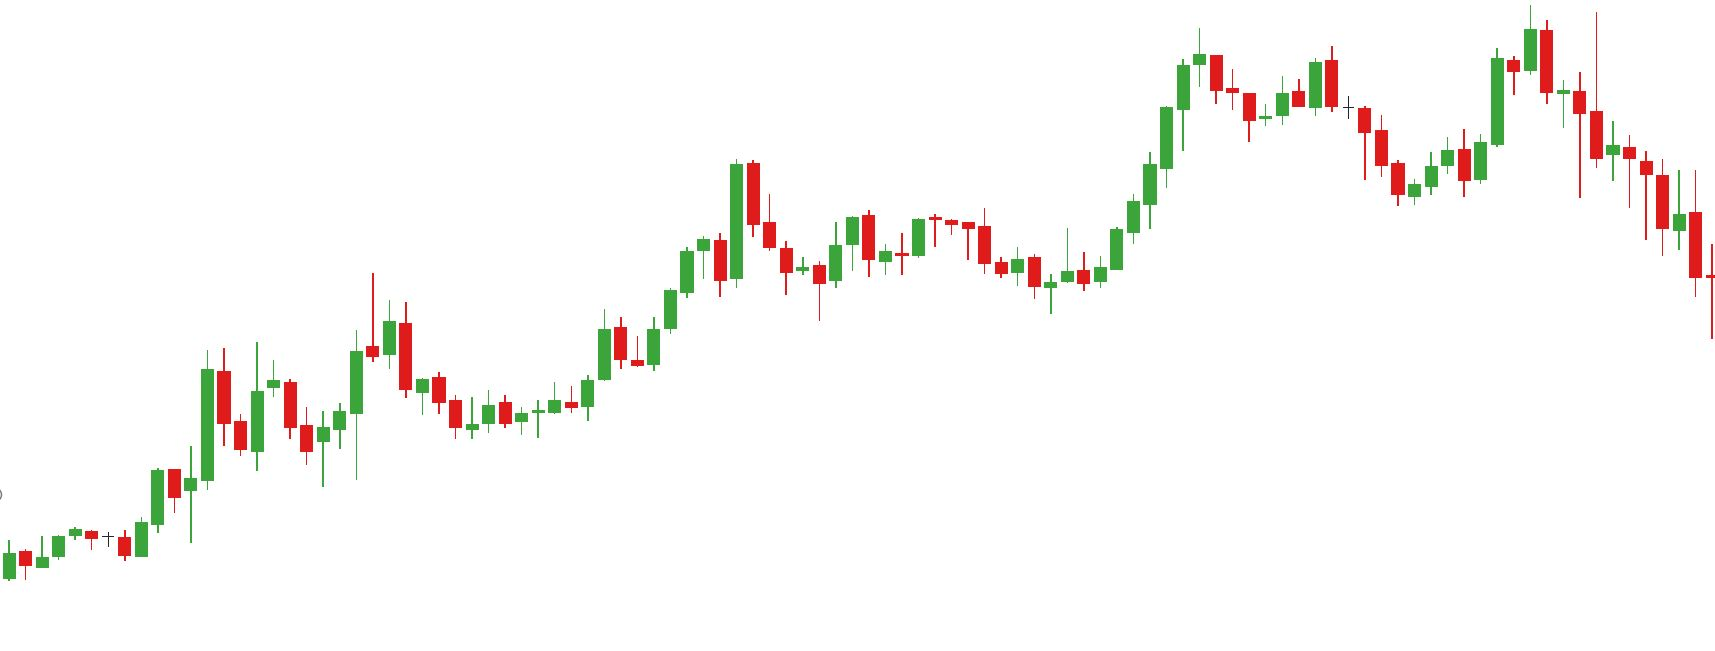buy: (249, 374, 330, 496)
